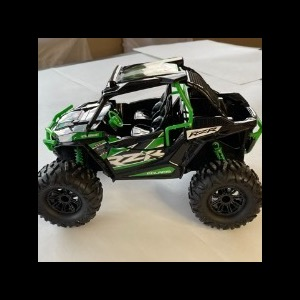polaris: (40, 58, 261, 231)
